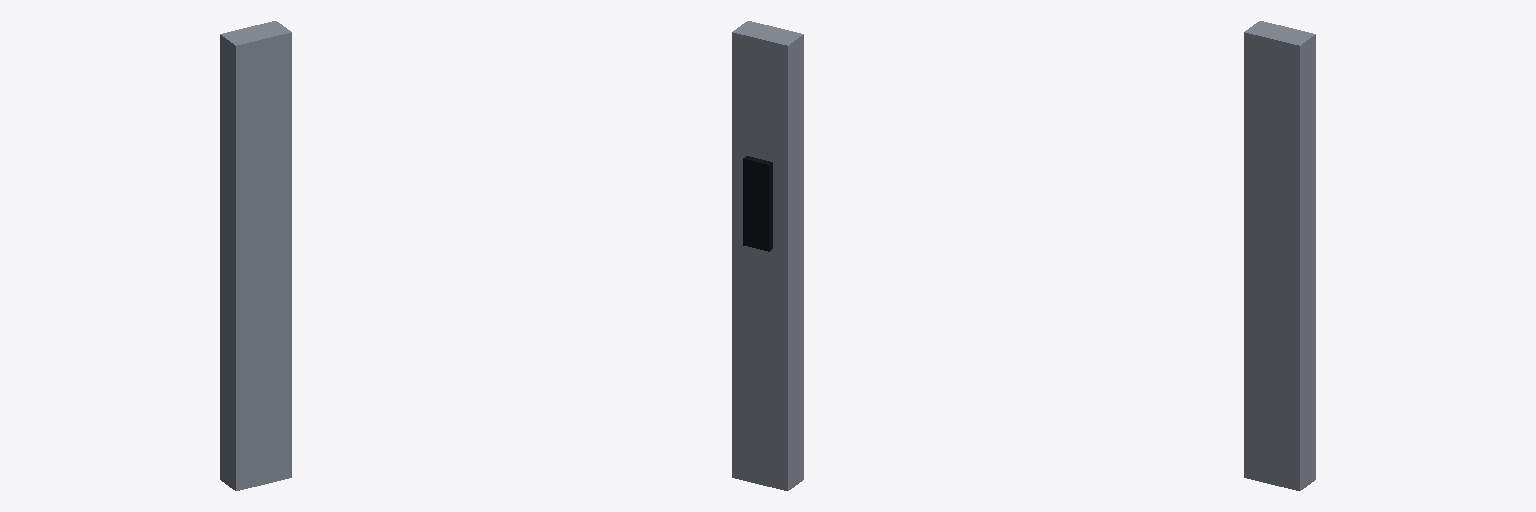
robot.urdf — artmanip_knife_030:
<?xml version='1.0' encoding='utf-8'?>
<robot name="artmanip_knife_030"><link name="link_0"><inertial><mass value="0.029" /><inertia ixx="5.363379644385775e-05" iyy="5.4332704136951885e-05" izz="1.1515141298691966e-06" ixy="0" ixz="0" iyz="0" /></inertial><visual><geometry><box size="0.019566448180653707 0.00967691640228999 0.14865951825954532" /></geometry><material name="link_0_color"><color rgba=".58 .60 .64 1" /></material></visual><collision><geometry><box size="0.019566448180653707 0.00967691640228999 0.14865951825954532" /></geometry></collision></link><link name="link_1"><inertial><mass value="0.006" /><inertia ixx="4.2236798899018606e-07" iyy="4.6111009765422306e-07" izz="4.3754842872476037e-08" ixy="0" ixz="0" iyz="0" /></inertial><visual><geometry><box size="0.00908278324835031 0.0022389136223711407 0.02897797860051548" /></geometry><material name="link_1_color"><color rgba=".12 .13 .15 1" /></material></visual><collision><geometry><box size="0.00908278324835031 0.0022389136223711407 0.02897797860051548" /></geometry></collision></link><joint name="slider" type="prismatic"><parent link="link_0" /><child link="link_1" /><origin xyz="0.0 0.005957915012330566 0.01980278411485115" /><axis xyz="0 0 1" /><limit lower="-0.04210171185378295" upper="0.007898288146217056" effort="100" velocity="1" /><dynamics damping="1000" friction="0.001" /></joint></robot>

--- What the picture shows (computed from the rendered views, not written in the file) ---
The picture shows the robot from 3 angles, left to right: view 1: azimuth 30°, elevation 25°; view 2: azimuth 150°, elevation 25°; view 3: azimuth 330°, elevation 25°; orthographic projection.
Model artmanip_knife_030 with 2 links and 1 joints (1 prismatic), rooted at link_0, posed all joints at 0.
Visible links, largest first — view 1: link_0; view 2: link_0, link_1; view 3: link_0.
Boxes of the visible links, x1,y1,x2,y2 form: link_0: (220, 21, 291, 490); link_0: (732, 21, 803, 490); link_1: (743, 156, 772, 251); link_0: (1244, 21, 1315, 490).
Bounding box of the posed robot: 0.0196 × 0.0119 × 0.1487 m (x, y, z).
Geometry: primitives only (box / cylinder / sphere), no mesh files.
